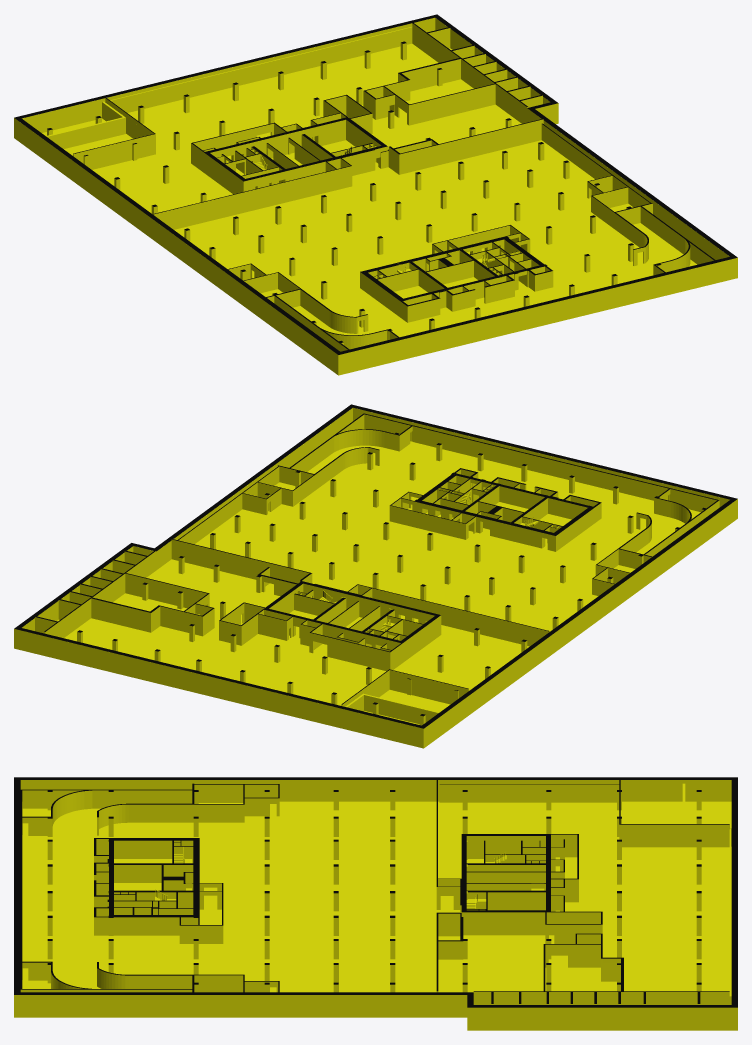
Rendered from sm_hana_building_b7f.glb.
3 renders of one model, top to bottom at view 1: azimuth 30°, elevation 25°; view 2: azimuth 150°, elevation 25°; view 3: azimuth 270°, elevation 25°, orthographic. The views are drawn at different scales.
Parts seen in each view (by area): view 1: sm_hana_building_b7f; view 2: sm_hana_building_b7f; view 3: sm_hana_building_b7f.
Boxes of the visible parts, <box> form: sm_hana_building_b7f: <box>14,14,737,375</box>; sm_hana_building_b7f: <box>14,404,737,748</box>; sm_hana_building_b7f: <box>14,777,737,1030</box>.
Size of the model in its own units: 86.61 by 4.69 by 115.
Materials: 5 (4 with a texture image).
